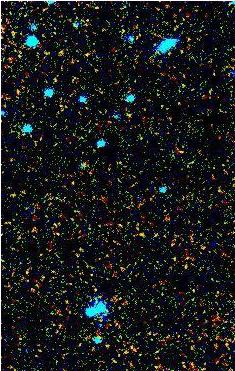star: (112, 105, 142, 135)
